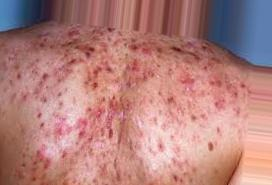Acne: (5, 30, 242, 184)
